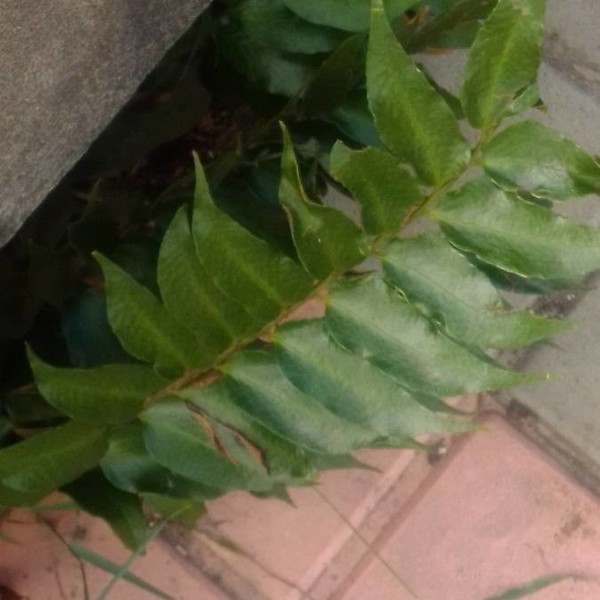obstacle: (9, 1, 584, 483)
